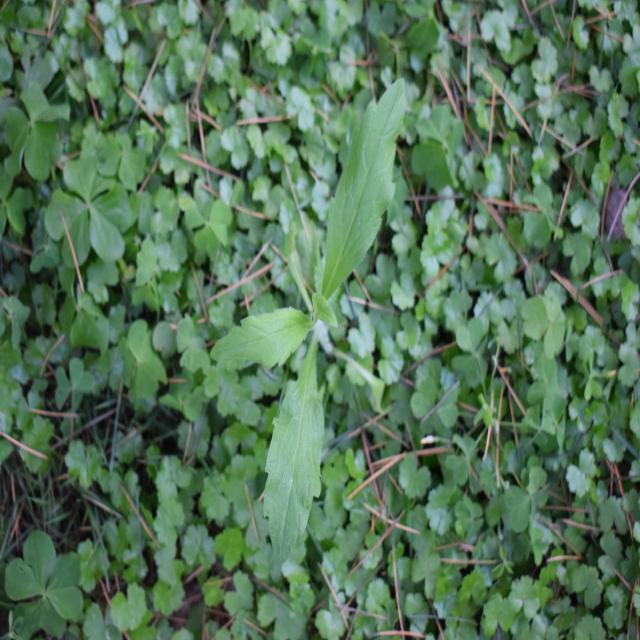horseweed: (247, 92, 405, 552)
